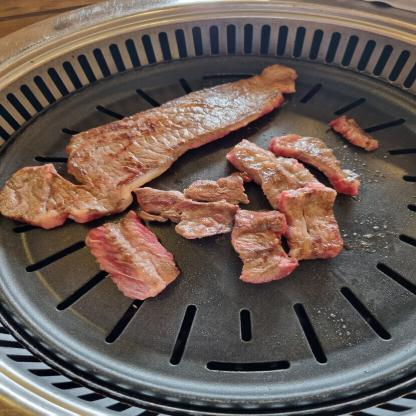Carne: (0, 60, 297, 226), (227, 139, 361, 260), (82, 215, 192, 305), (128, 172, 243, 240), (268, 124, 370, 200), (223, 204, 294, 291)
